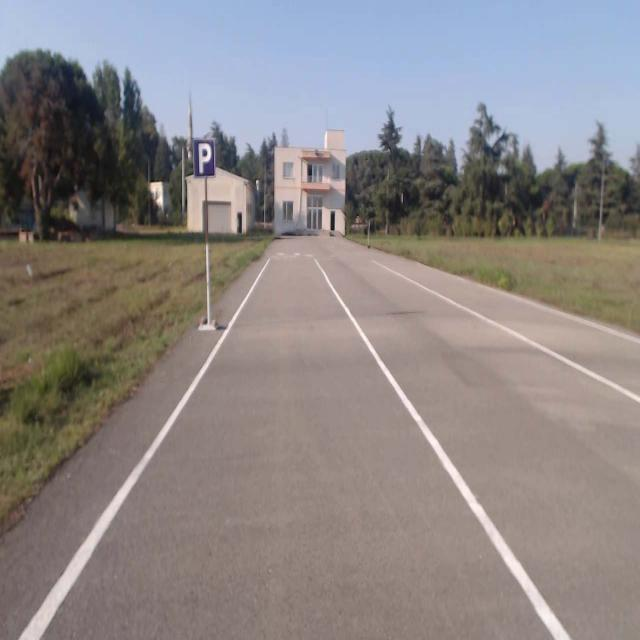park: (193, 140, 214, 177)
